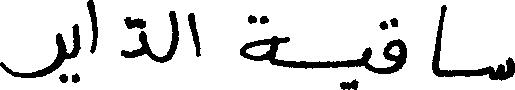X: (0, 28, 62, 87), (240, 10, 276, 69), (385, 13, 405, 78), (124, 12, 145, 62), (490, 52, 514, 85), (188, 8, 198, 61), (72, 19, 79, 87), (88, 0, 96, 58), (434, 11, 440, 81), (171, 6, 175, 63), (365, 42, 370, 75)
